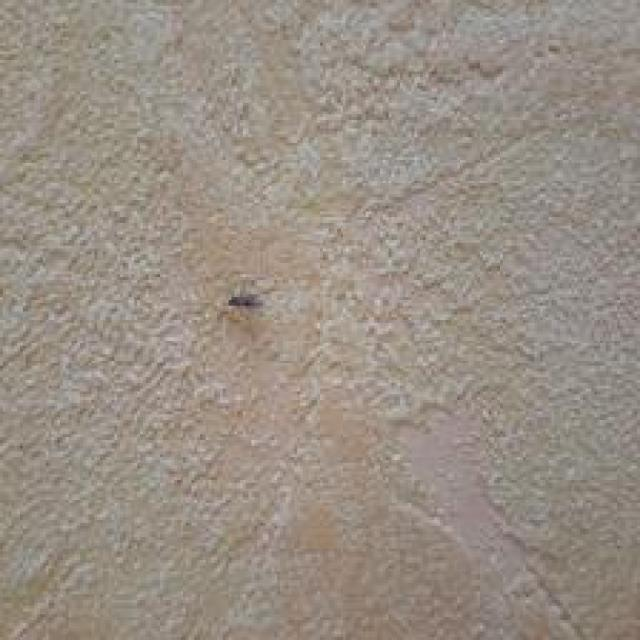Culex: (227, 292, 264, 308)
